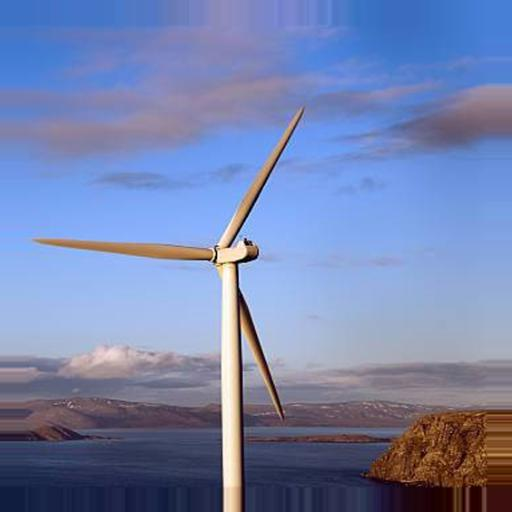wind turbine: (34, 108, 307, 478)
